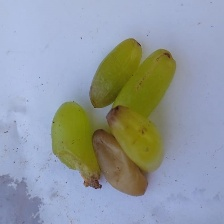grapes: (8, 47, 176, 184)
